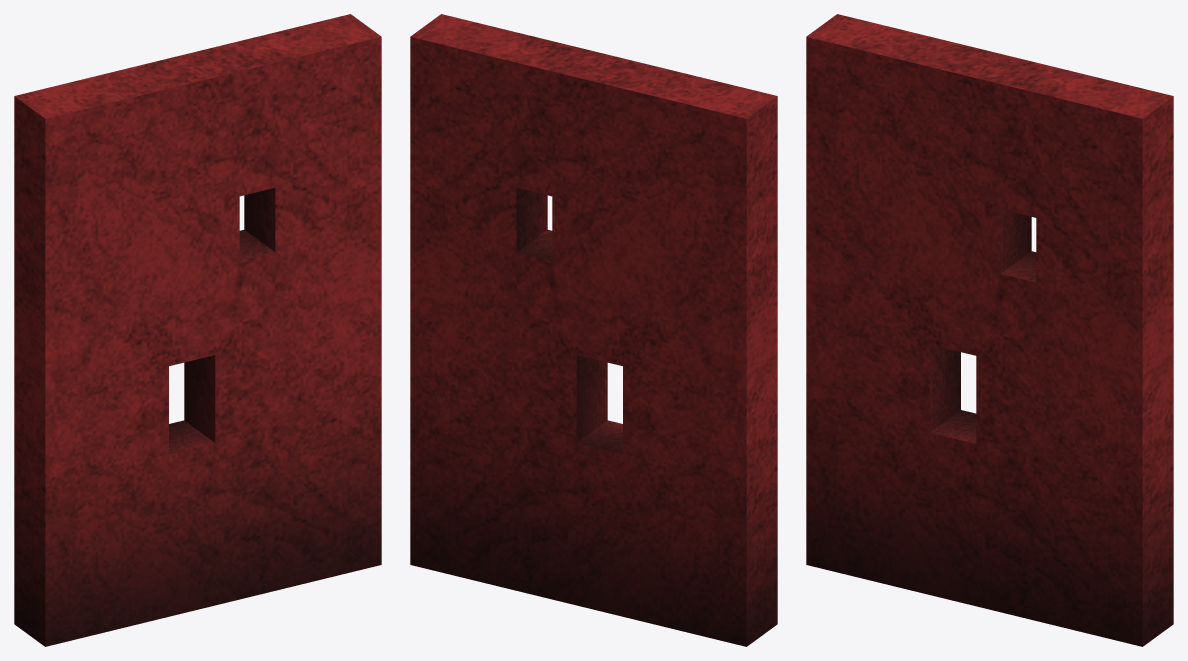
File: Dobble_Little_Window.fbx
3 renders of one model, left to right at view 1: azimuth 30°, elevation 25°; view 2: azimuth 150°, elevation 25°; view 3: azimuth 330°, elevation 25°, orthographic.
Visible parts, largest first — view 1: Cube.009; view 2: Cube.009; view 3: Cube.009.
Part boxes in pixels (x1,y1,x2,y2): Cube.009: [14, 14, 381, 646]; Cube.009: [410, 14, 777, 646]; Cube.009: [806, 14, 1173, 646].
Bounding box in the file's own units: 200 × 300 × 32.
